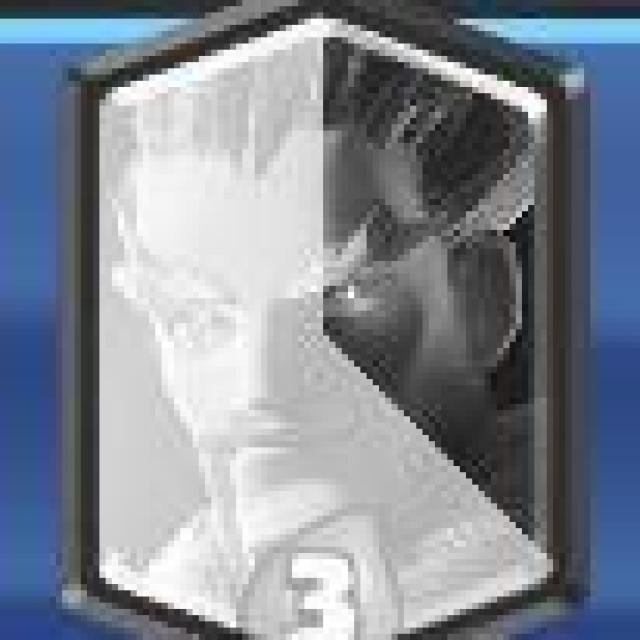Ice_Wizard: (67, 1, 587, 640)
